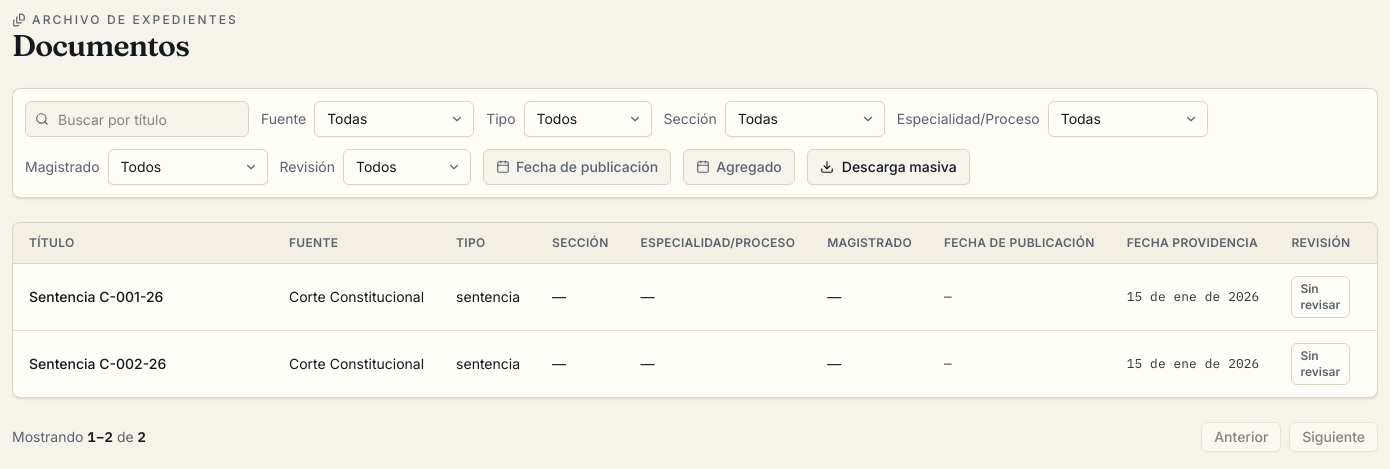
DocumentsPage › clicking a document's title filters the table to that exact title
Click the button "Sentencia C-001-26".
click(96, 297)  # box x1=29 y1=287 x2=163 y2=307
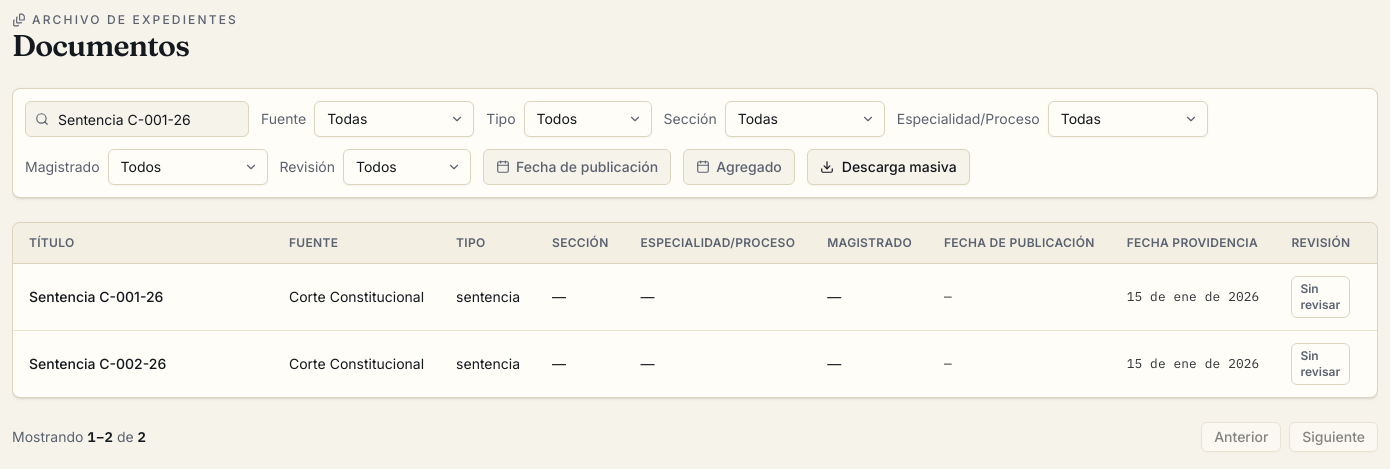
Now the field with placeholder "Buscar por título" holds "Sentencia C-001-26", box x1=25 y1=101 x2=249 y2=137
